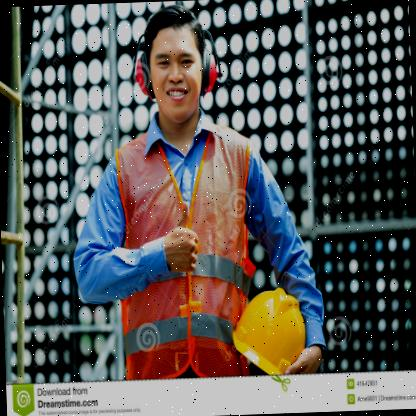colete_refletivo: (68, 122, 285, 378)
sem_capacete: (130, 0, 224, 129)
